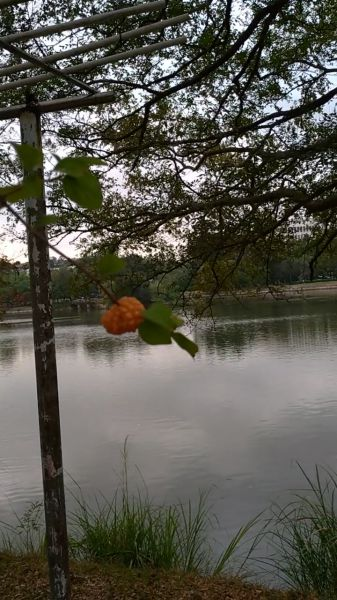eggs: (98, 291, 150, 338)
